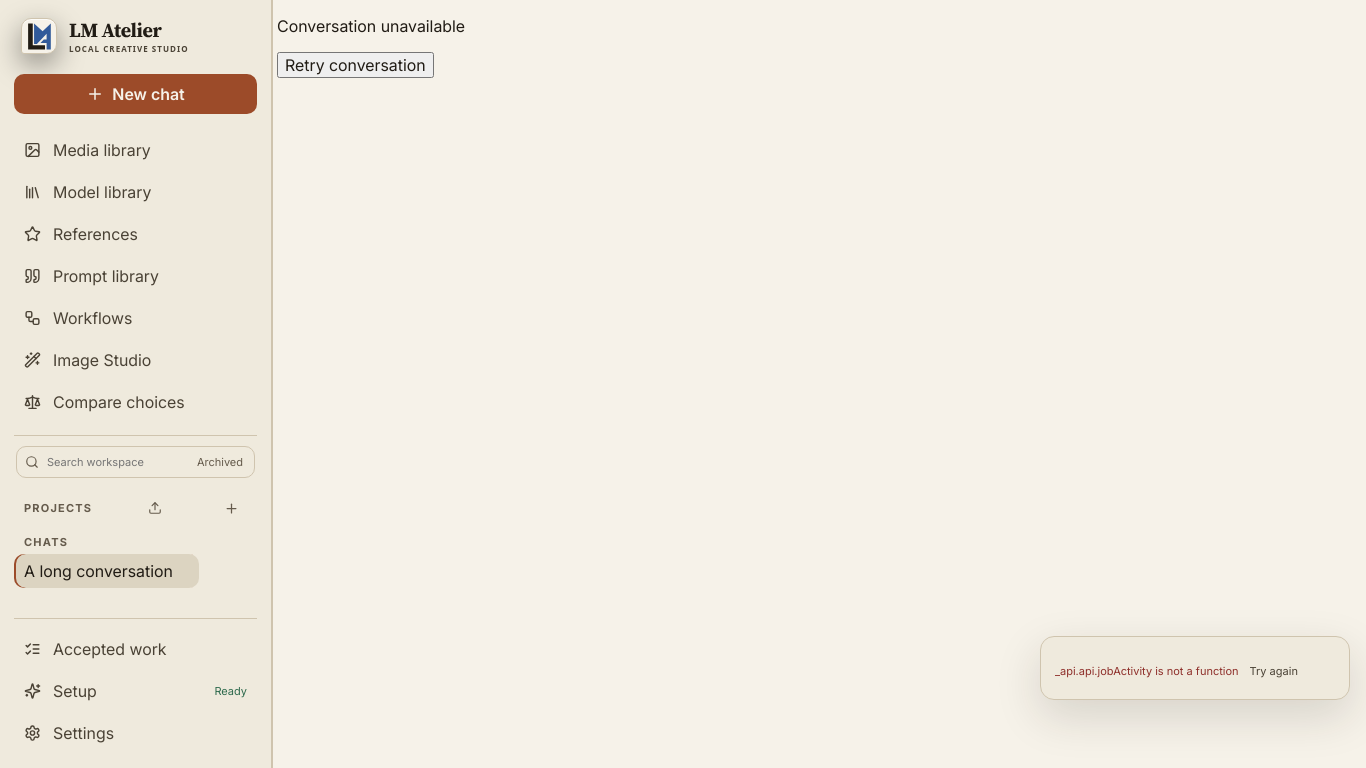
Test: shows a failed metadata read and retries without a full-transcript fallback
Check: the text "Conversation unavailable" is shown, box [277,16,465,36]
Click the button "Retry conversation": [355, 65] box [277,52,434,78]
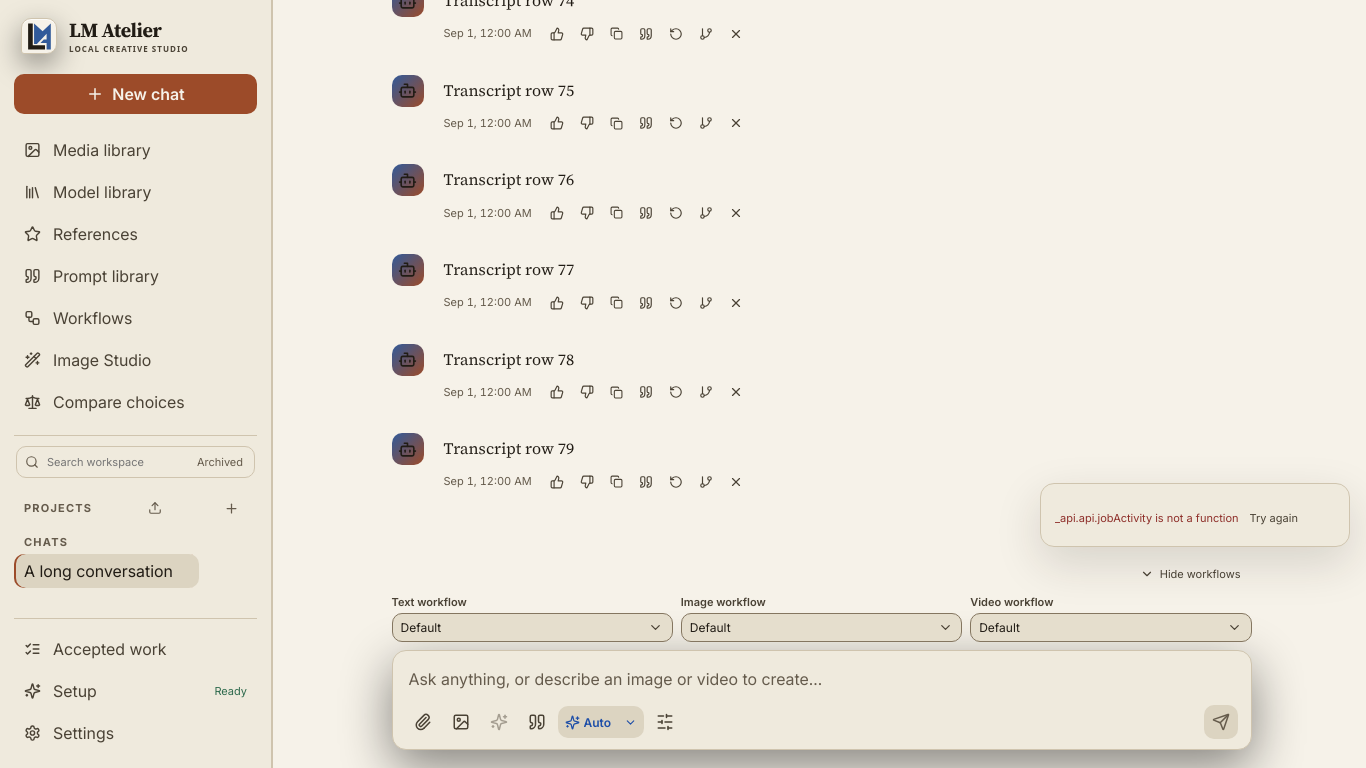
Check: the text "Transcript row 79" is shown, box [444,437,574,459]
